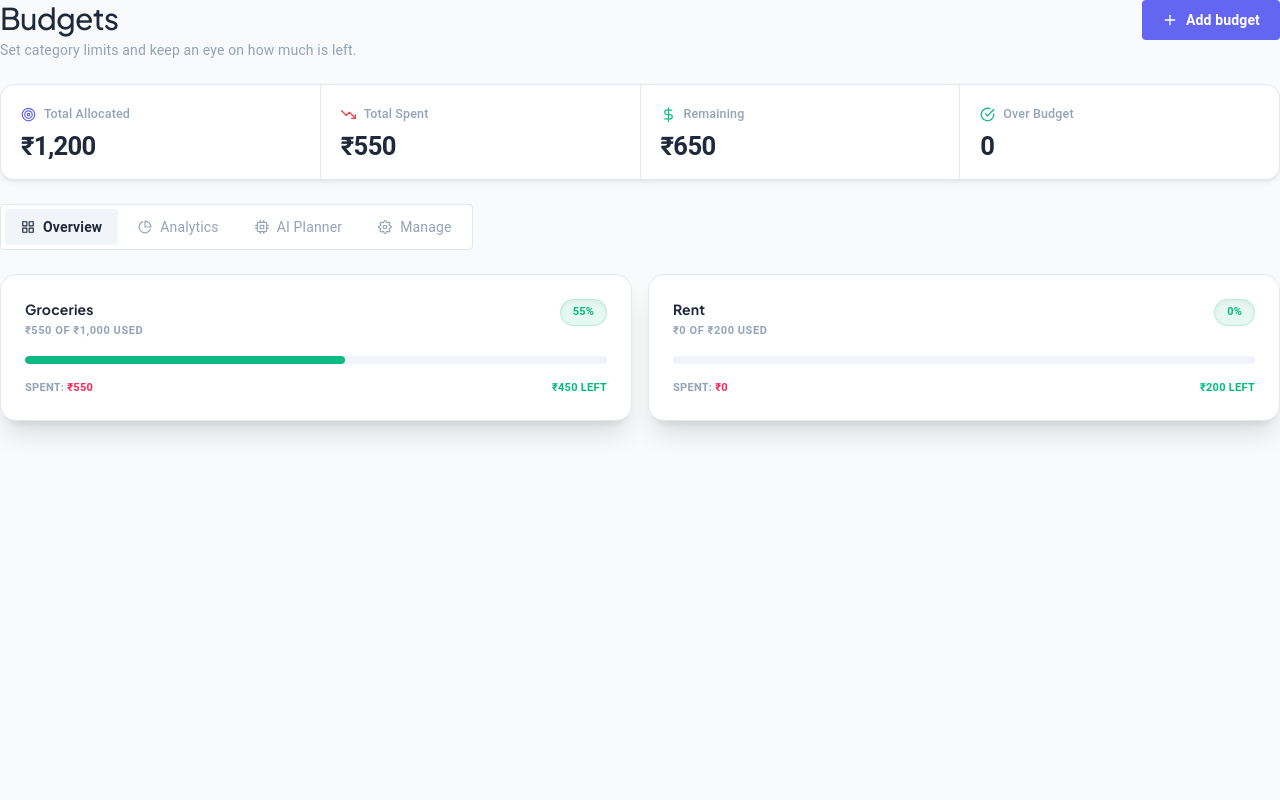
Test: UserBudget › confirms and issues the exact DELETE for a budget
Expected: the heading "Groceries" is shown, [25,300,94,318]
Click the button "Manage". click: coordinates (415, 227)
box: [362,209,468,245]
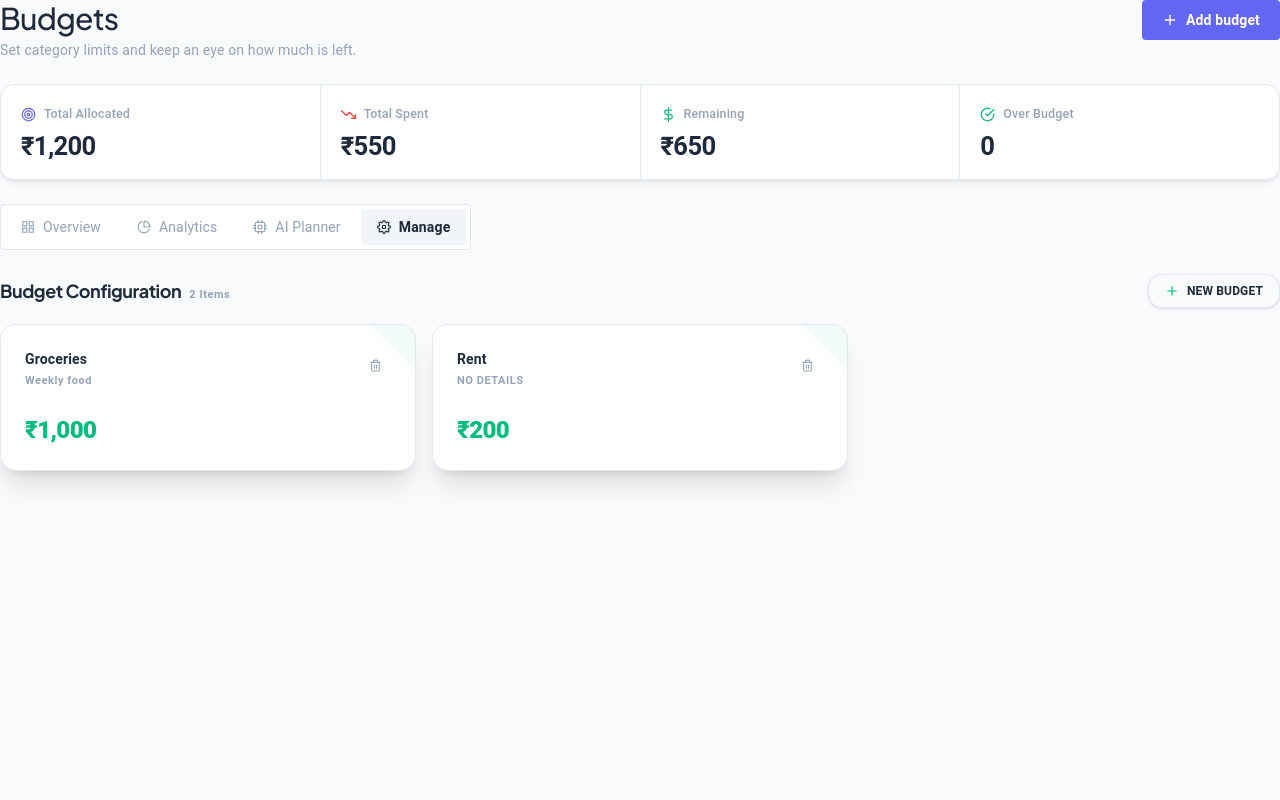
Expected: the heading "Budget Configuration" is shown, [0,277,181,305]
Expected: the text "2 Items" is shown, [189,287,230,304]
Click the button without text in the row of "Weekly food". click: coordinates (375, 365)
box: [359,349,391,381]
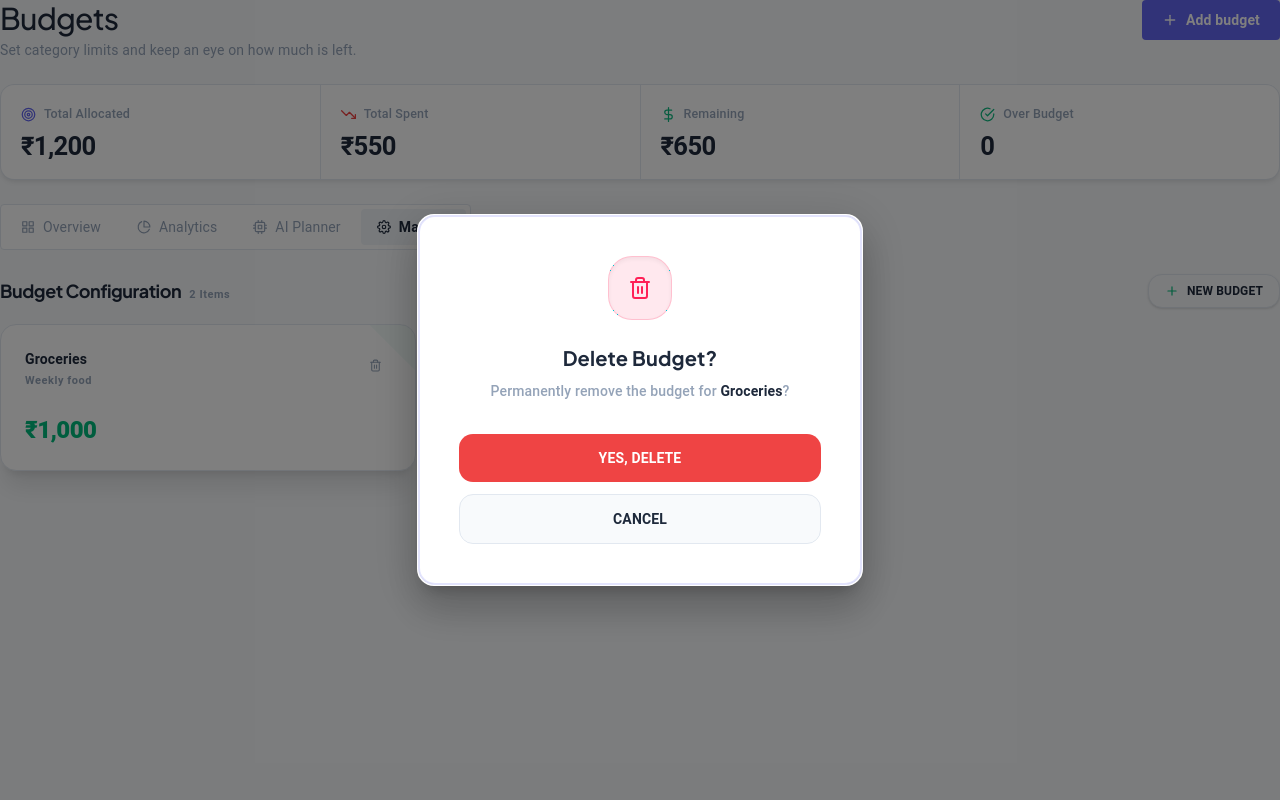
Expected: the heading "Delete Budget?" is shown, [563,345,717,370]
Expected: the text "Groceries" is shown, [720,383,783,399]
Click the button "YES, DELETE". click: coordinates (640, 458)
box: [459,434,821,482]
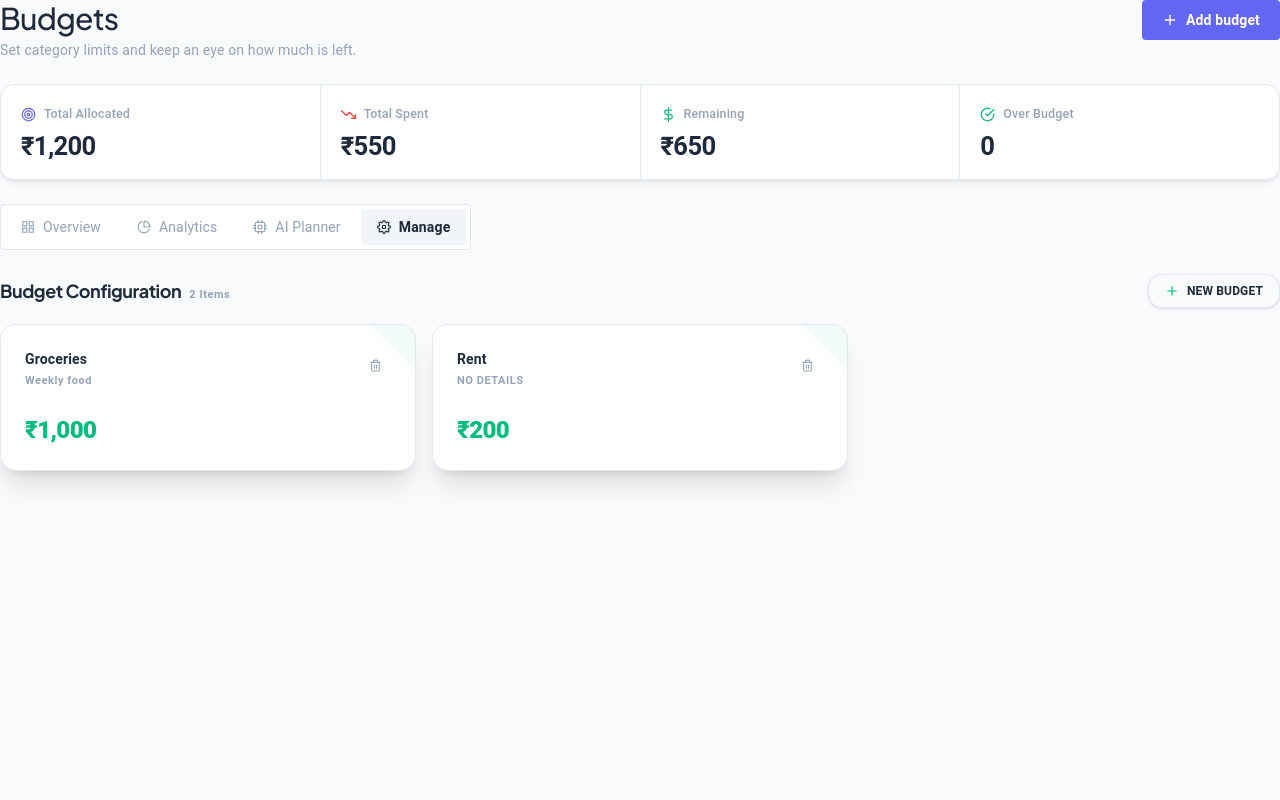
Expected: the dialog is gone
